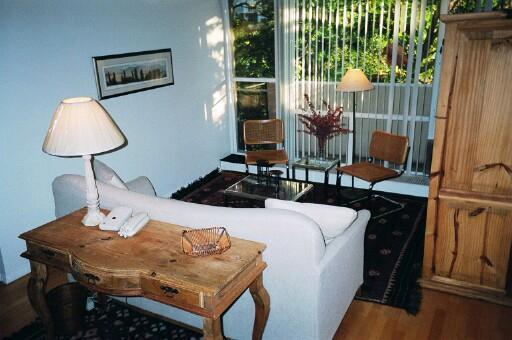Armario: (436, 15, 511, 304)
